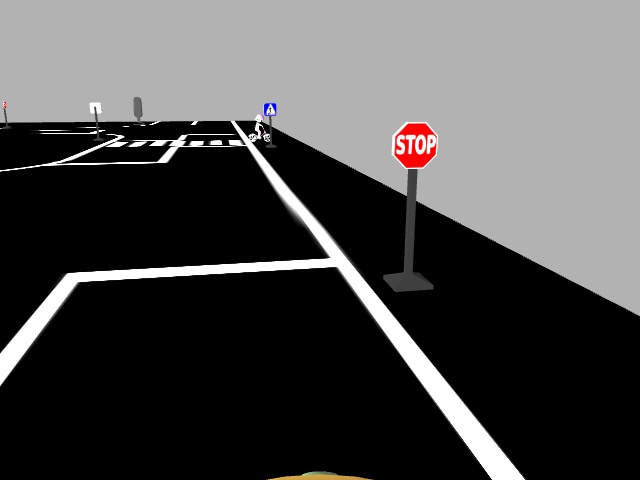Stop: (390, 121, 439, 170)
